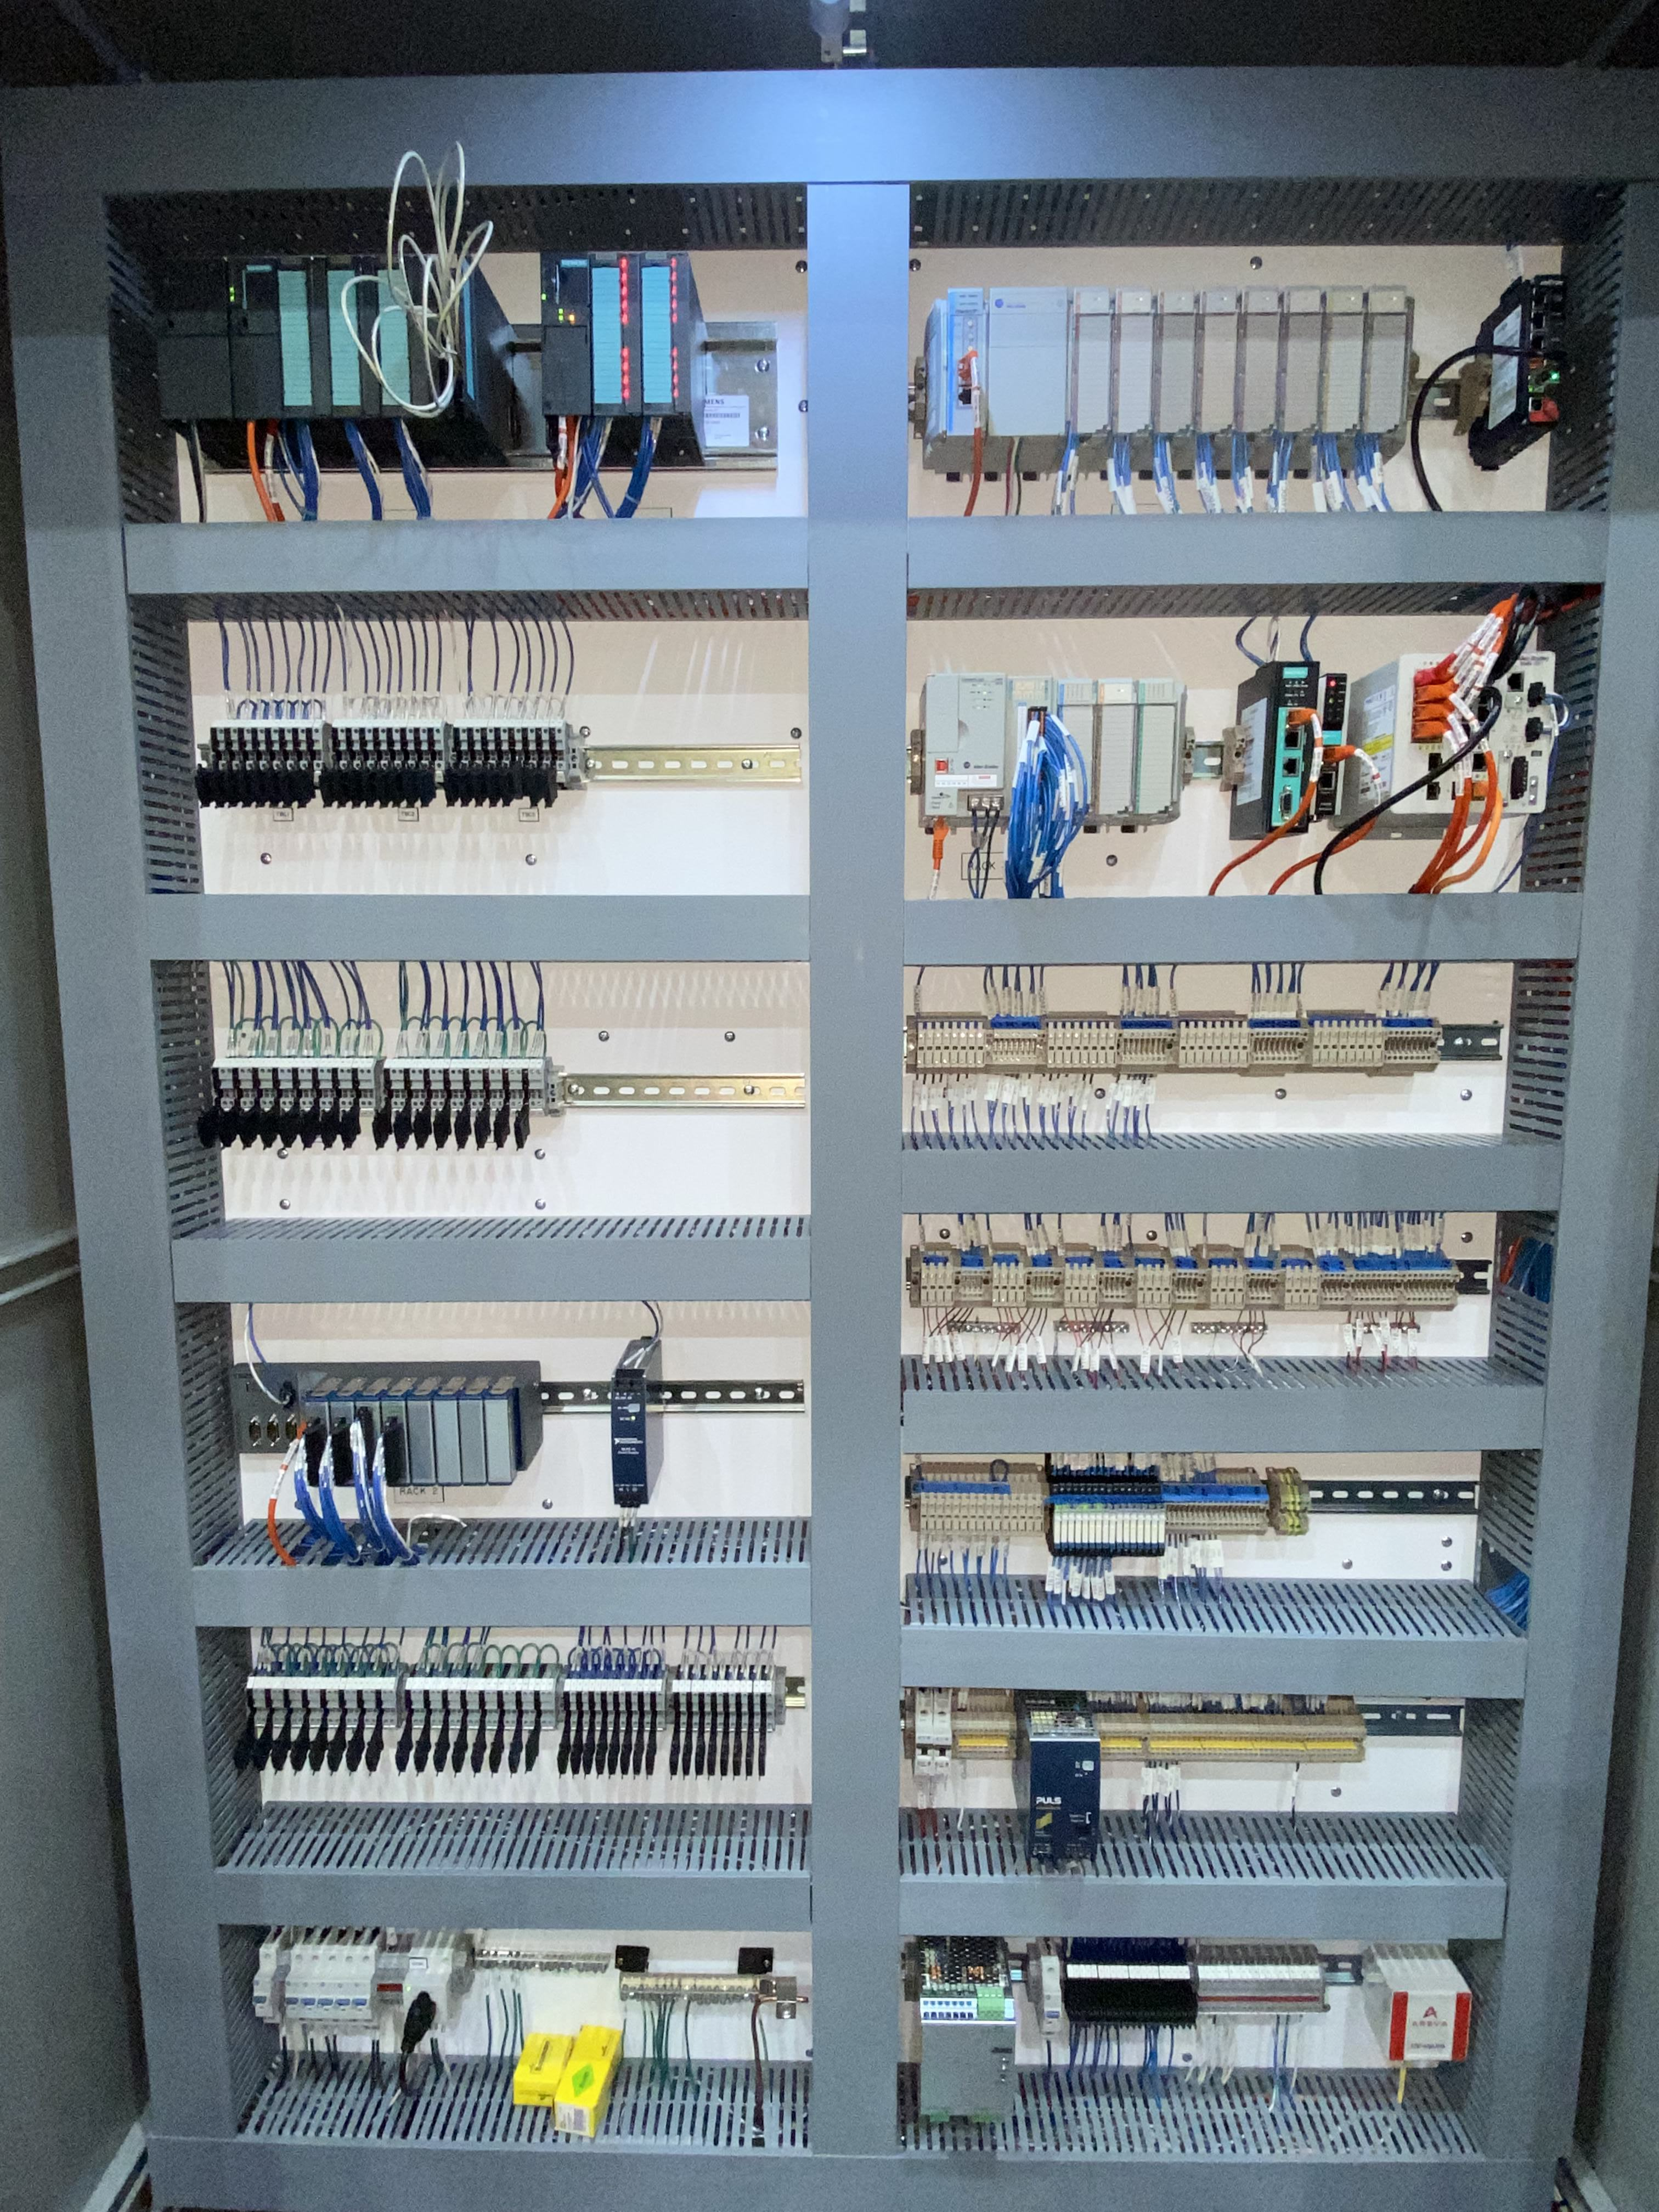AllenBradley: (922, 671, 1011, 827)
Siemens: (218, 251, 293, 423)
